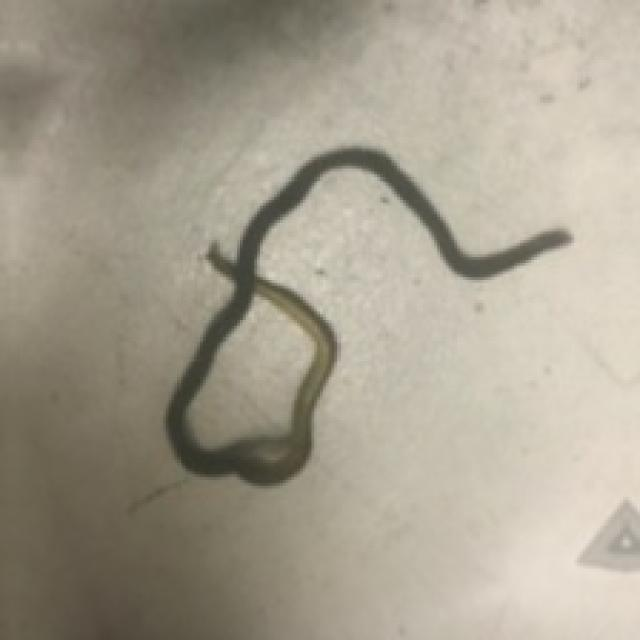gervais worm snake: (166, 149, 569, 483)
